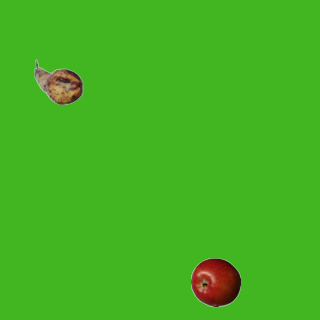Apple Braeburn: (190, 257, 240, 307)
Pear Abate: (33, 57, 83, 107)
